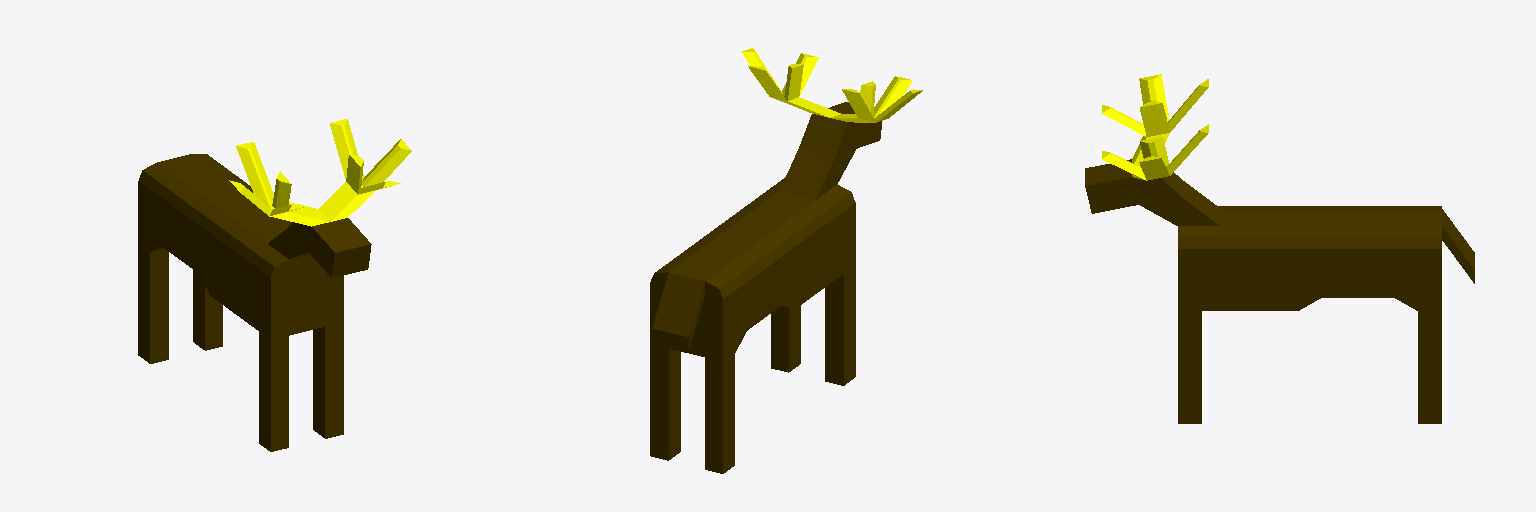
The picture shows the model from 3 angles: view 1: azimuth 30°, elevation 25°; view 2: azimuth 150°, elevation 25°; view 3: azimuth 270°, elevation 25°; orthographic projection.
Parts seen in each view (by area): view 1: Cube.001_Cube.002; view 2: Cube.001_Cube.002; view 3: Cube.001_Cube.002.
Boxes of the visible parts, x1=… form: Cube.001_Cube.002: x1=138, y1=119, x2=411, y2=451; Cube.001_Cube.002: x1=650, y1=48, x2=922, y2=473; Cube.001_Cube.002: x1=1085, y1=74, x2=1474, y2=423.
Size of the model in its own units: 4.05 by 6.76 by 7.96.
1 materials, 1 textured.